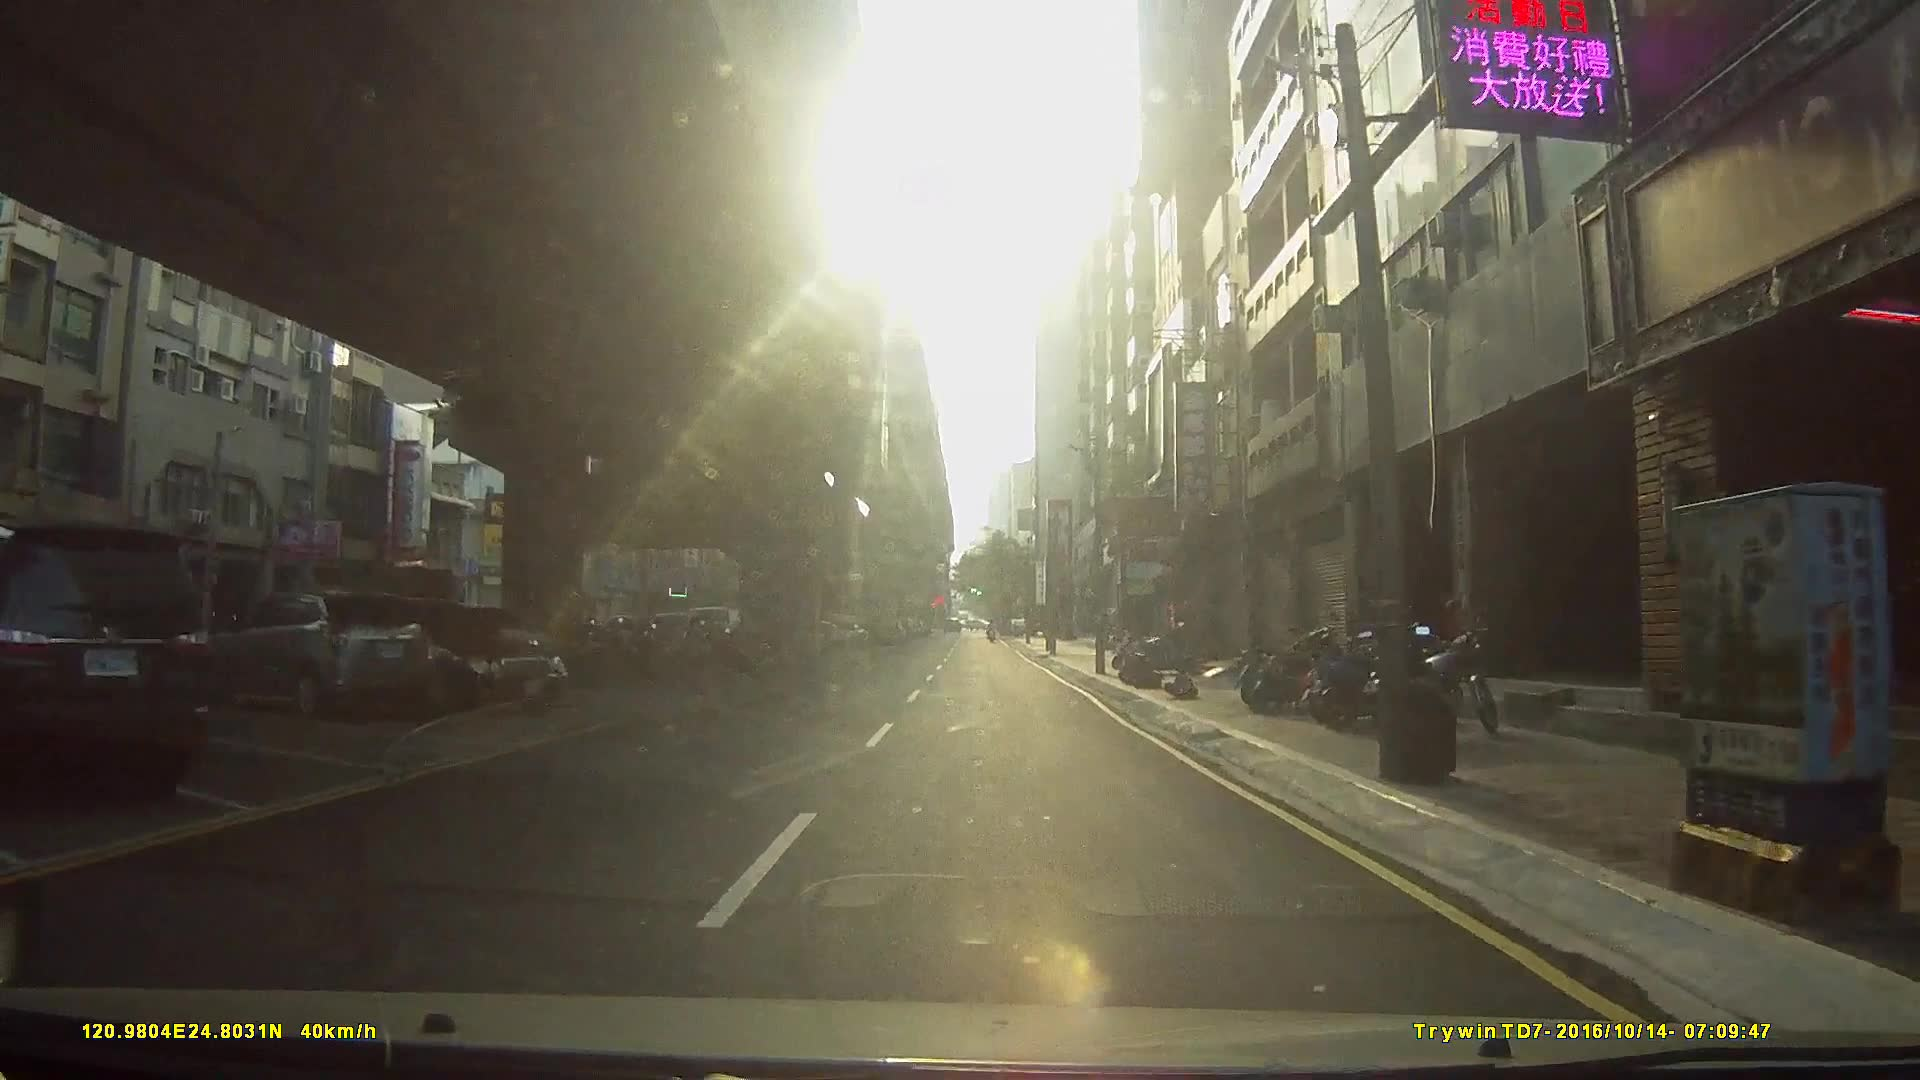vehicle: (0, 521, 208, 807), (196, 588, 431, 720), (316, 604, 566, 717)
